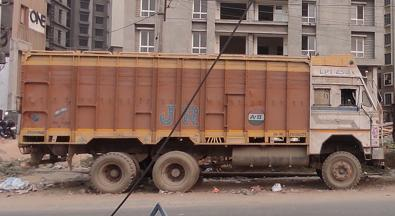Truck: (13, 49, 387, 194)
